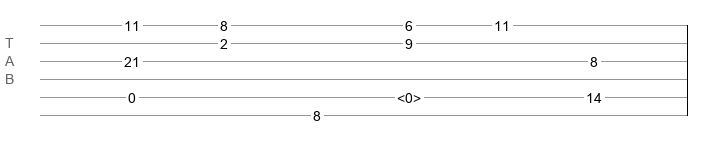0: (128, 90, 136, 100)
11: (124, 18, 140, 28), (494, 18, 510, 28)
14: (586, 90, 602, 100)
2: (220, 36, 228, 46)
21: (124, 54, 140, 64)
6: (405, 18, 413, 28)
8: (220, 18, 228, 28), (313, 108, 321, 118), (590, 54, 598, 64)
9: (405, 36, 413, 46)
harmonic: (397, 90, 421, 100)
